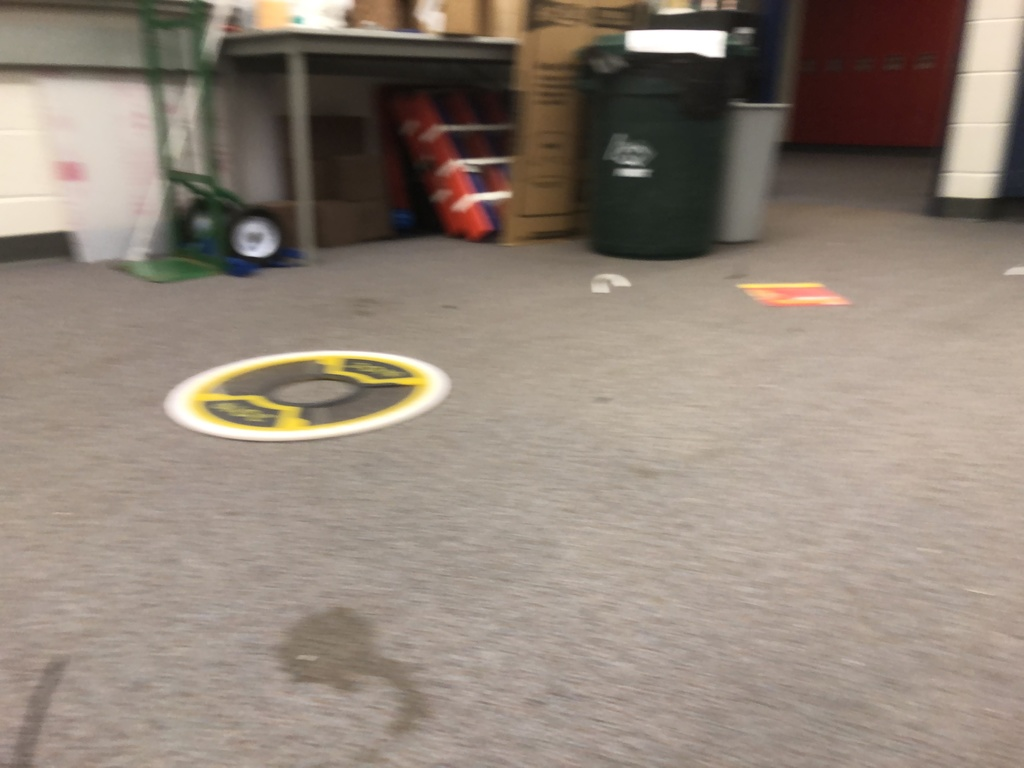hatch_panel: (152, 336, 475, 444)
